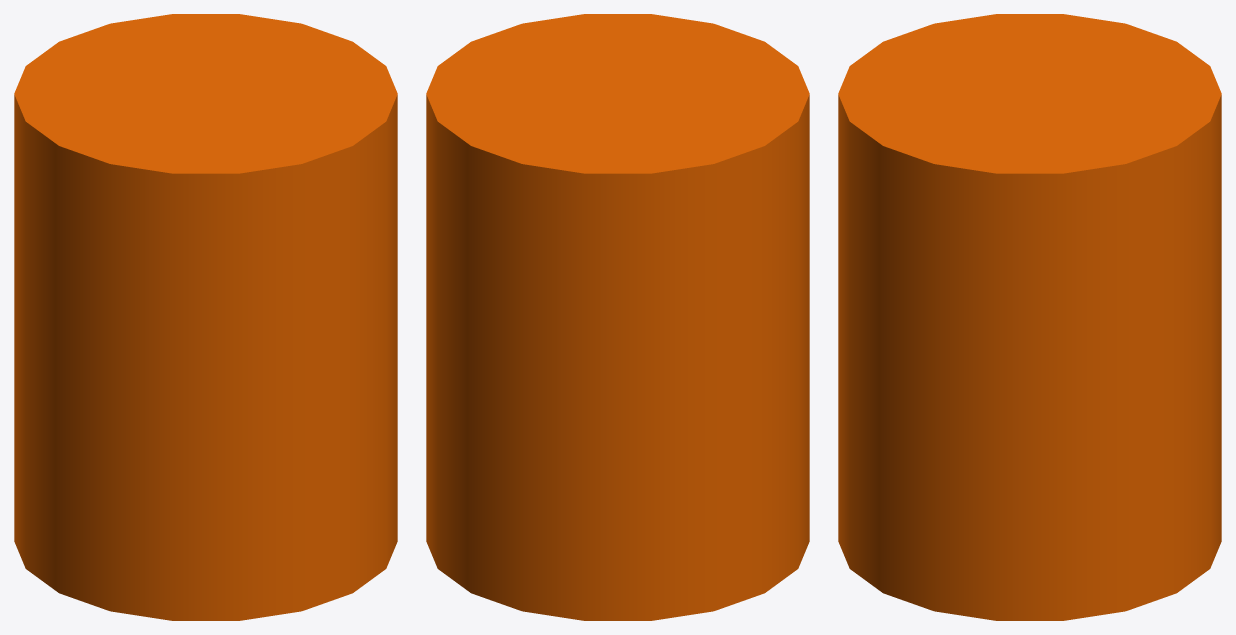
3 renders of one model, left to right at view 1: azimuth 30°, elevation 25°; view 2: azimuth 150°, elevation 25°; view 3: azimuth 270°, elevation 25°, orthographic.
Visible parts, largest first — view 1: Cylinder; view 2: Cylinder; view 3: Cylinder.
Part boxes in pixels (x1=…): Cylinder: x1=14, y1=14, x2=397, y2=620; Cylinder: x1=426, y1=14, x2=809, y2=620; Cylinder: x1=838, y1=14, x2=1221, y2=620.
Size of the model in its own units: 7.28 by 9.51 by 7.39.
Materials: 1 (1 with a texture image).
